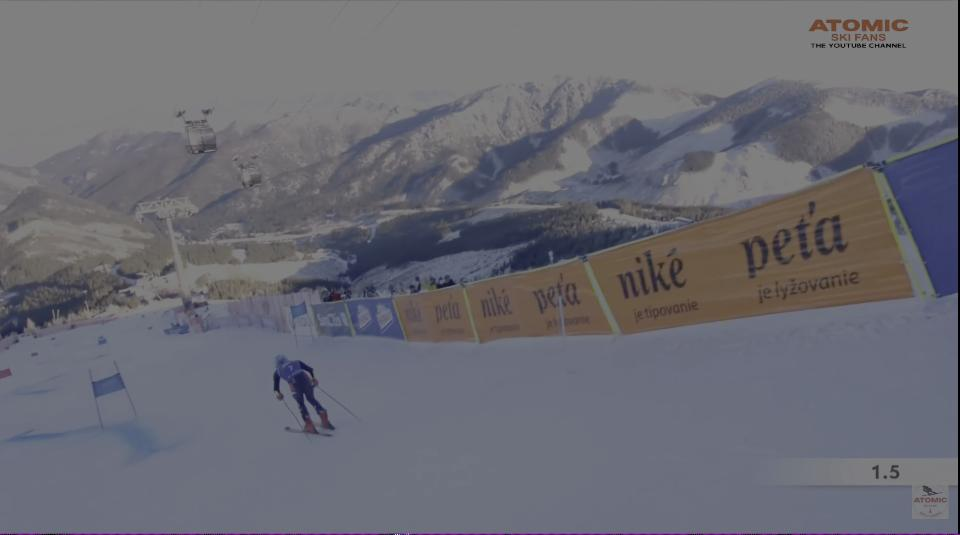gate: (74, 356, 113, 436), (109, 354, 153, 423)
